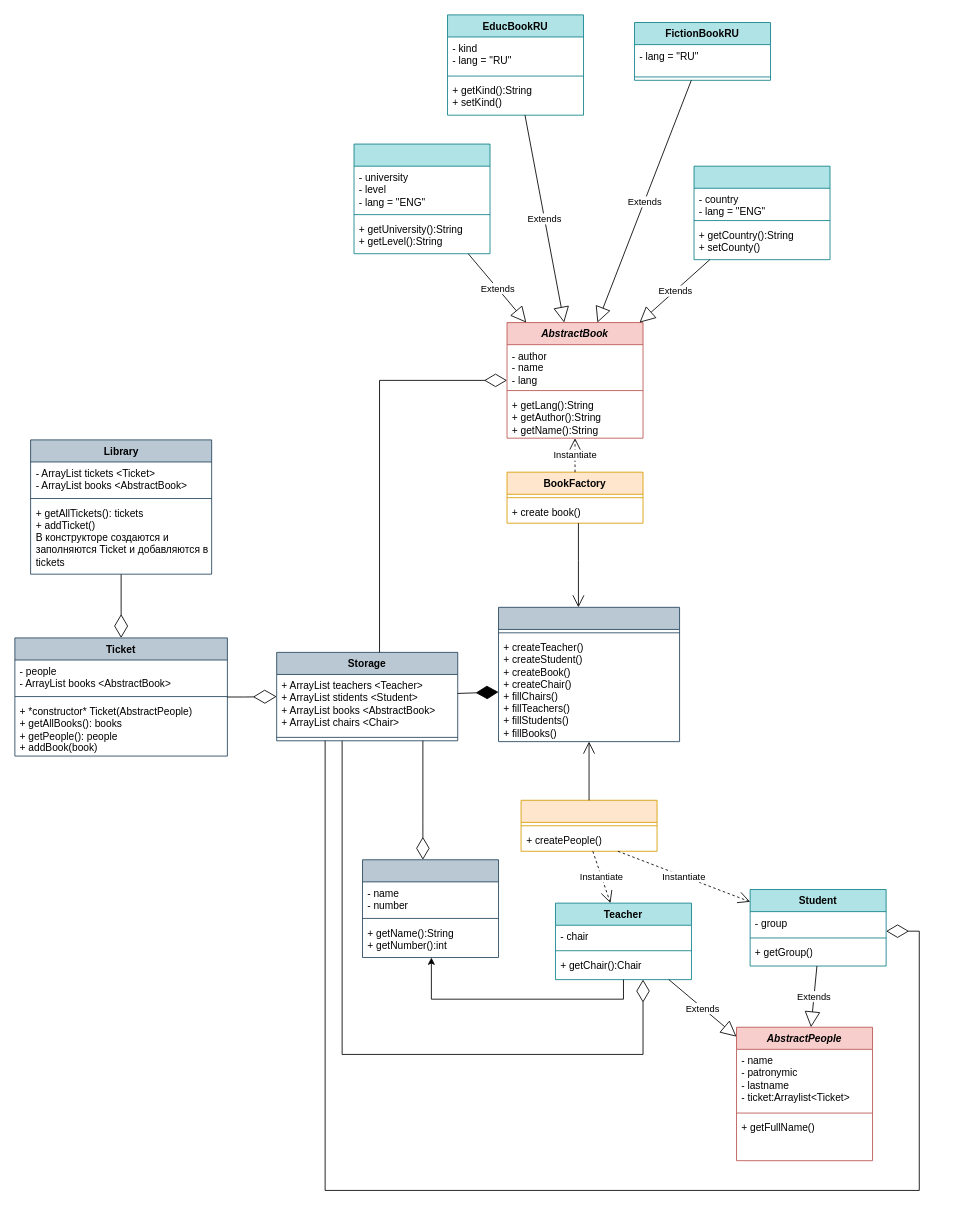
This 956x1227 diagram has some shape labels left out. Each missing label, with the box of its shape:
DataMaster: (498, 606, 680, 742)
EducBookENG: (353, 143, 490, 254)
FictionBookENG: (693, 165, 830, 260)
PeopleFactory: (520, 799, 657, 851)
Сhair: (362, 859, 499, 958)
